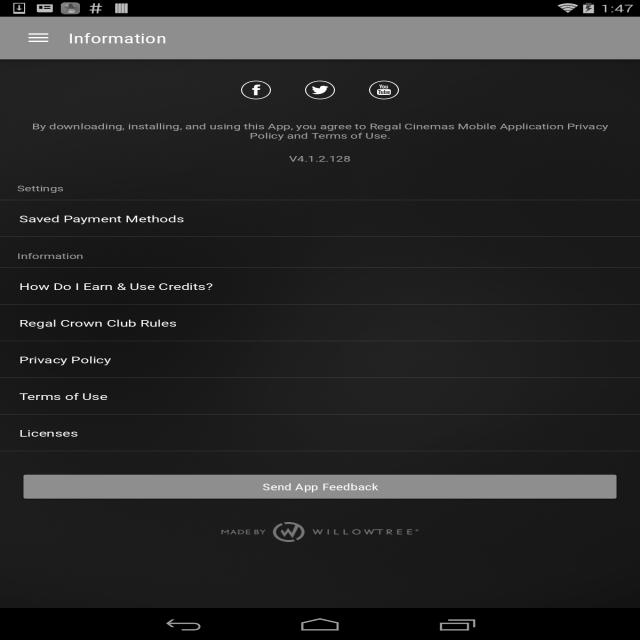Button: (24, 474, 616, 498), (241, 81, 271, 99), (305, 81, 335, 99), (369, 81, 399, 99)
ImageButton: (9, 17, 68, 59)
ImageView: (221, 522, 419, 542)
TextView: (0, 237, 640, 268), (0, 170, 640, 200), (19, 121, 621, 141), (0, 268, 233, 305), (0, 200, 204, 237), (0, 304, 196, 341), (0, 341, 131, 378), (0, 378, 127, 415), (0, 415, 98, 451), (68, 29, 166, 47), (289, 153, 351, 164)
